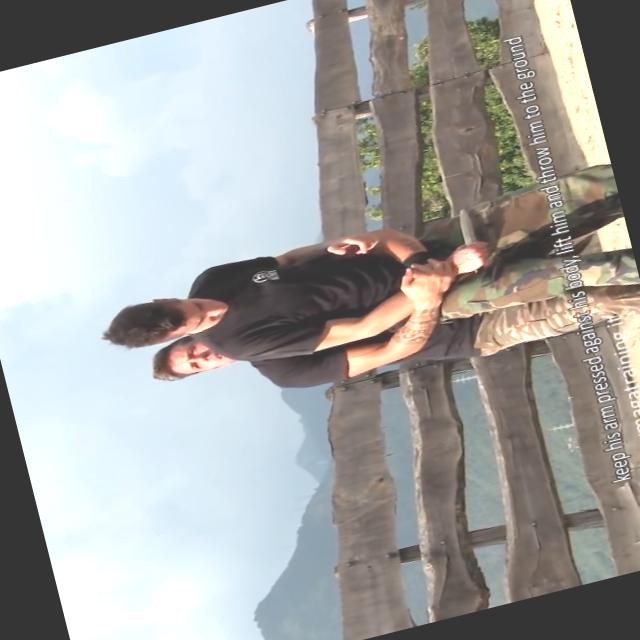knife: (443, 199, 495, 278)
